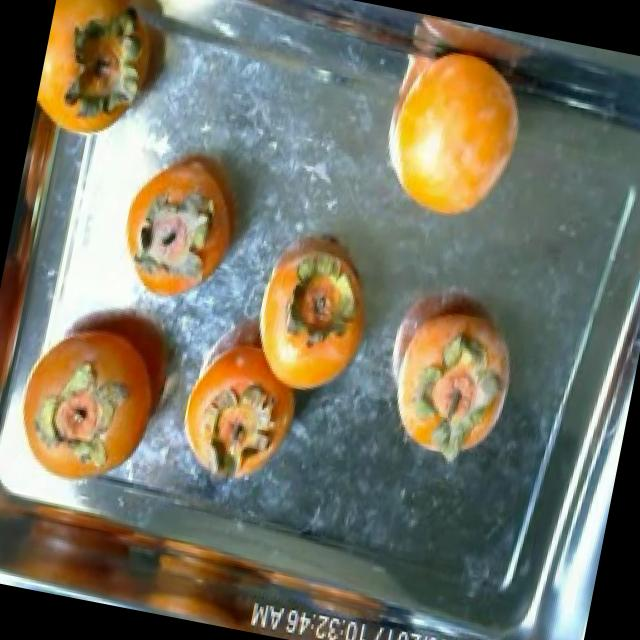Fruit: (366, 18, 550, 241), (98, 122, 268, 326), (377, 280, 533, 481), (250, 229, 395, 419), (161, 338, 318, 512)
